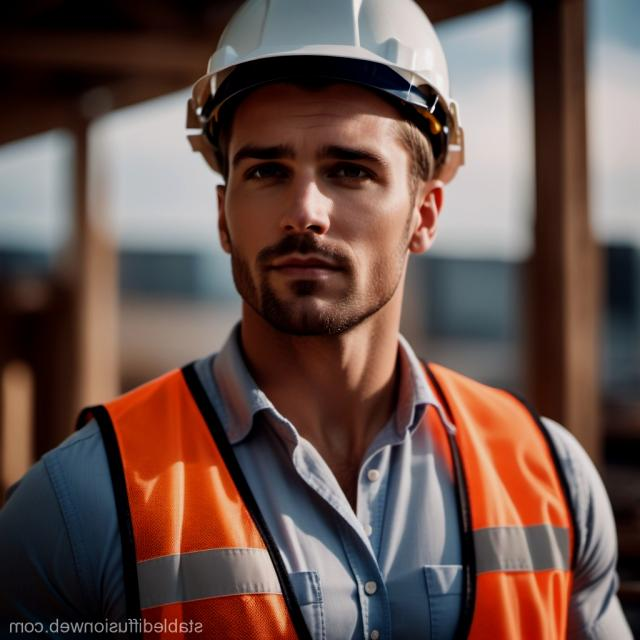Hard Hat: (178, 1, 472, 192)
Reflective Vest: (67, 353, 579, 640)
